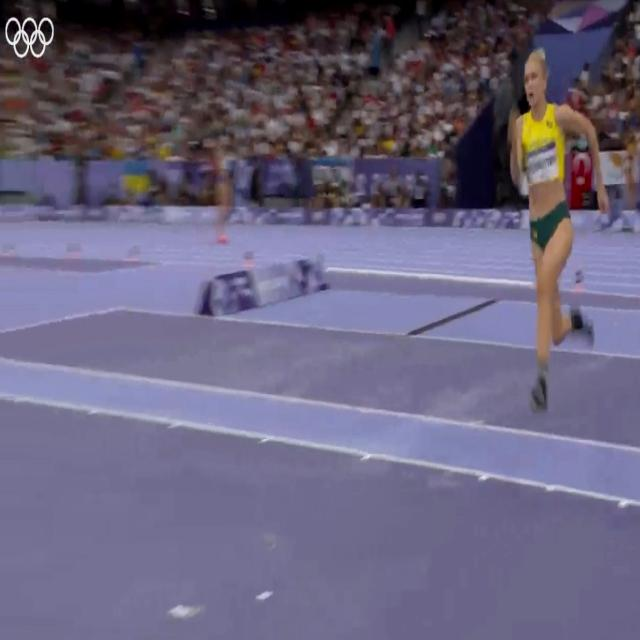run: (508, 48, 608, 413)
